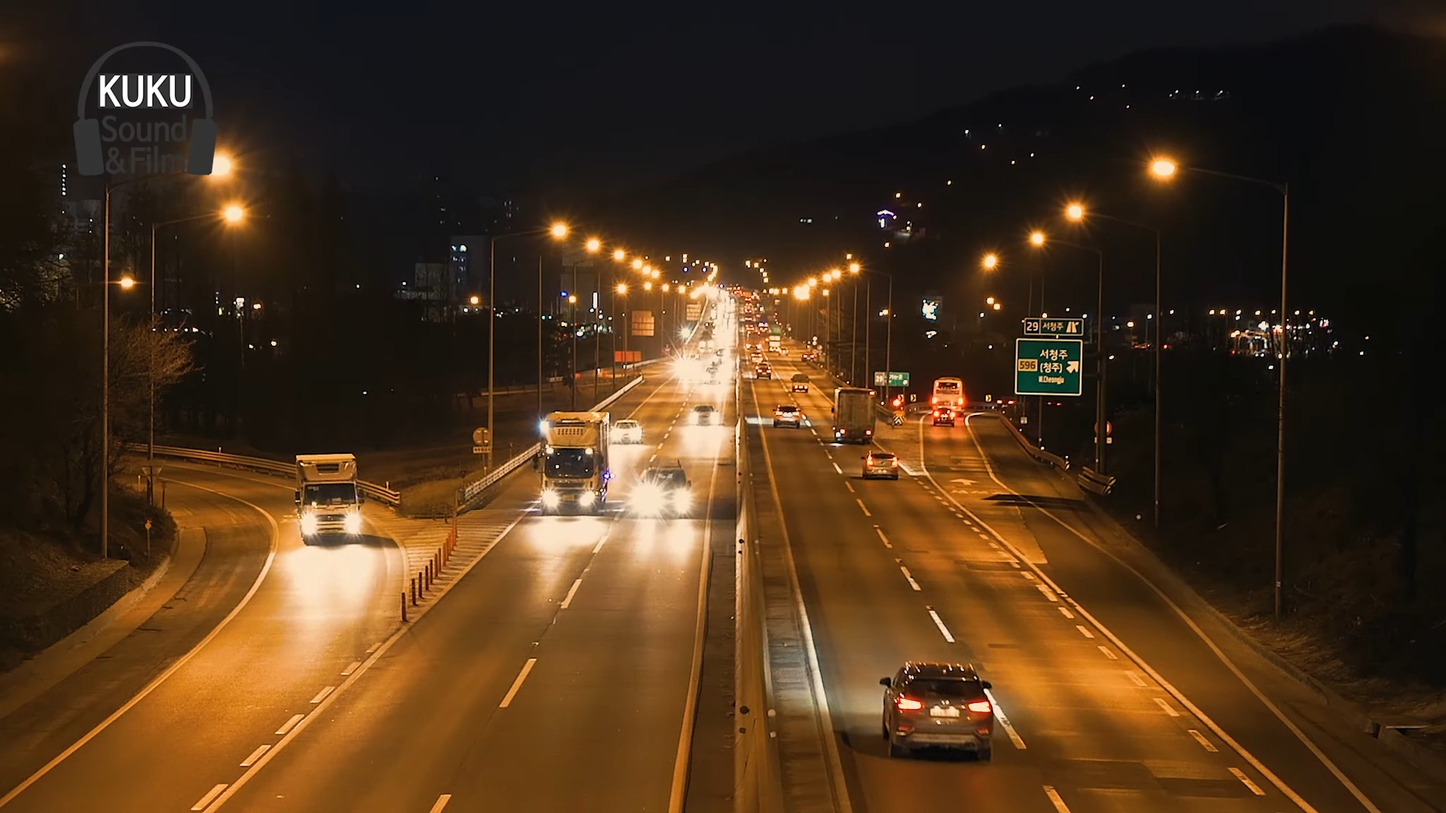car: (886, 662, 997, 758), (636, 464, 692, 521)
truck: (532, 408, 607, 521), (290, 452, 369, 546)
